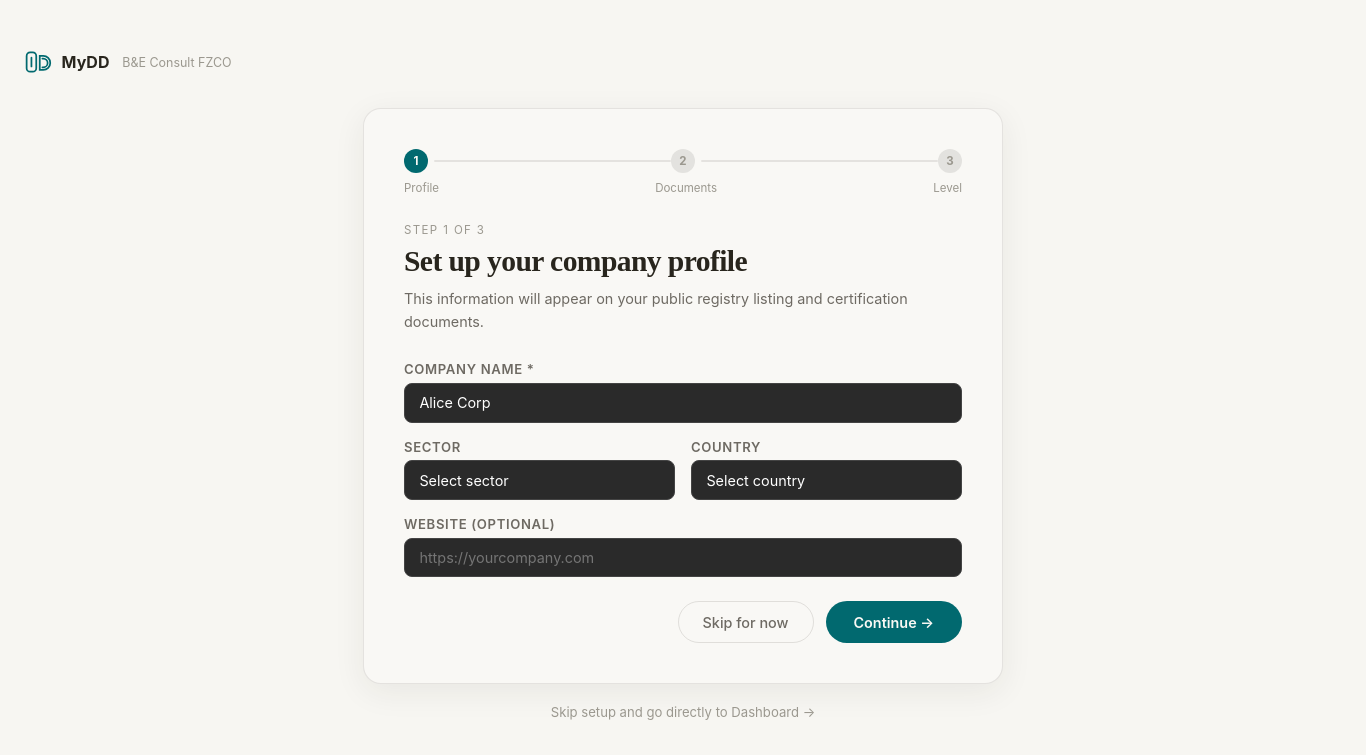
Test case: Onboarding — Step 2: Documents › displays document checklist items
Replace the text in the field with id "ob-name" with "Corp" at (683, 403), box [404,383,962,423]
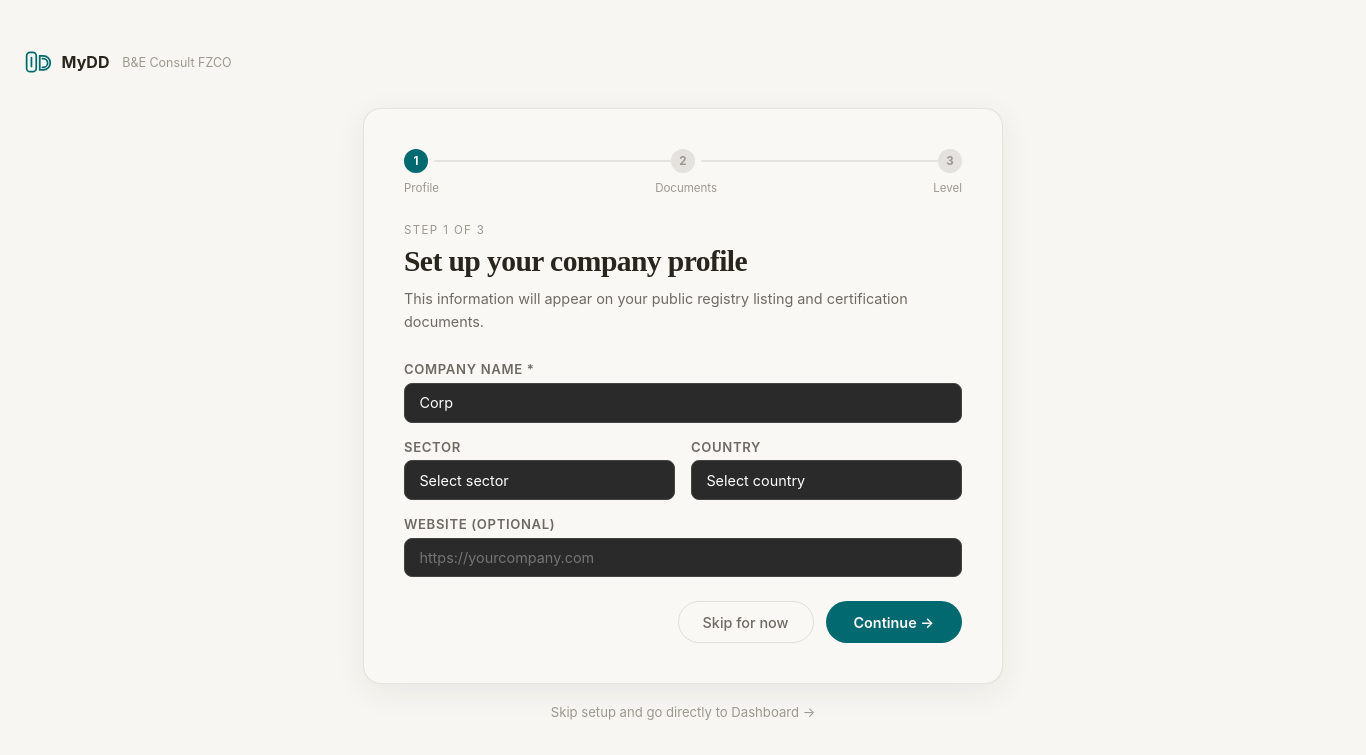
Click the button "Continue →" at (894, 622), box [826,601,962,643]
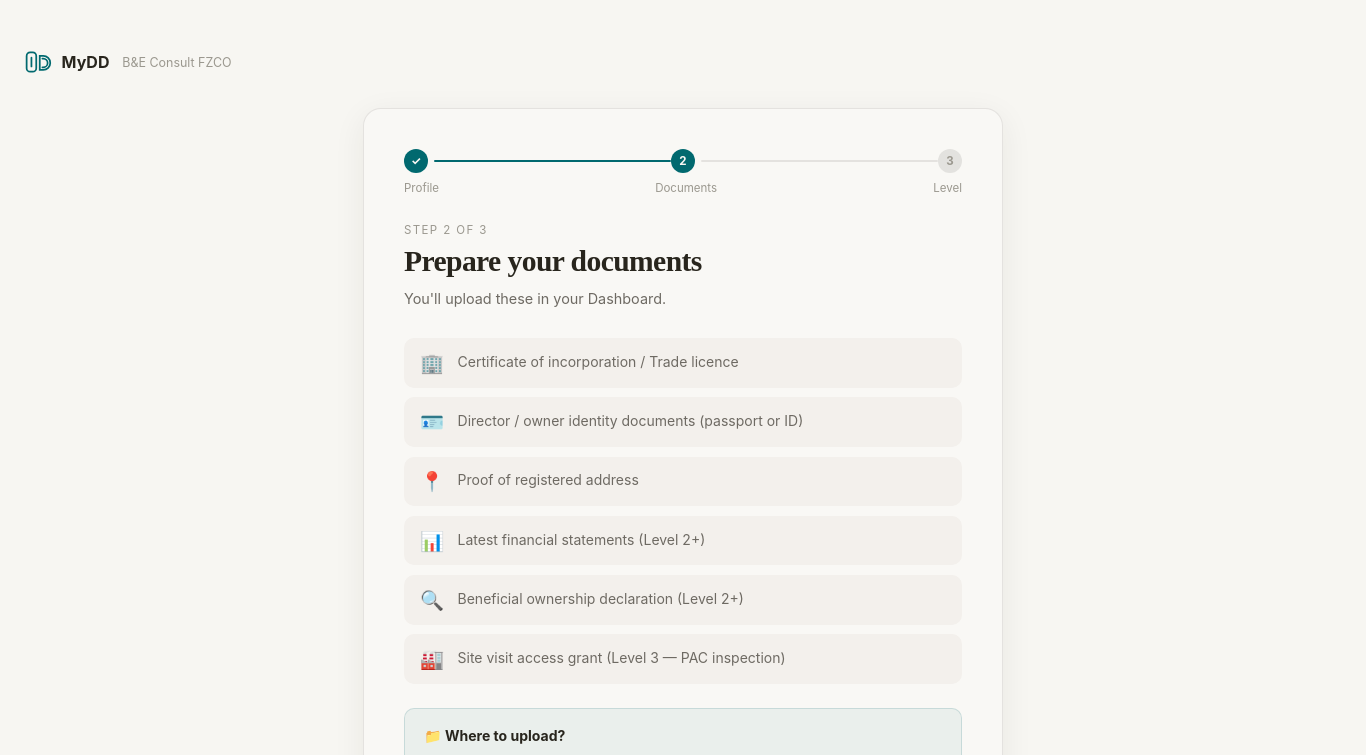
Result: the heading "Prepare your documents" is shown at [404,245,702,277]
Result: the text "Certificate of incorporation / Trade licence" is shown at [458,351,739,372]
Result: the text "Director / owner identity documents (passport or ID)" is shown at [458,410,803,431]
